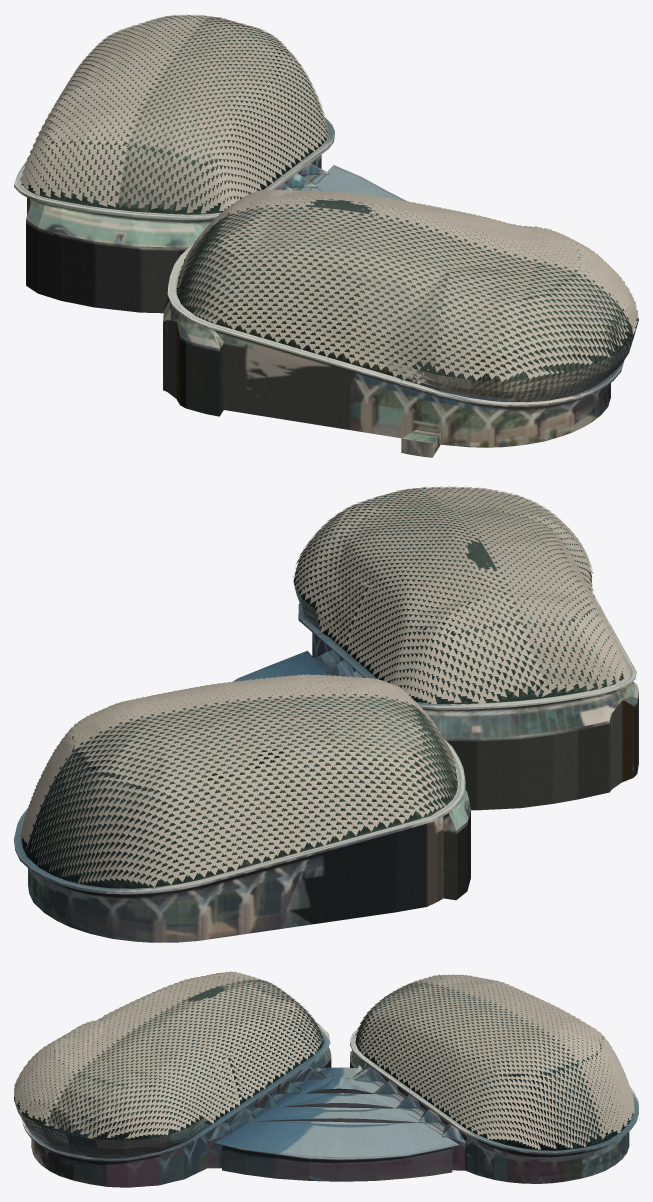
3 renders of one model, top to bottom at view 1: azimuth 30°, elevation 25°; view 2: azimuth 150°, elevation 25°; view 3: azimuth 270°, elevation 25°, orthographic. The views are drawn at different scales.
Parts seen in each view (by area): view 1: 12_0.glb; view 2: 12_0.glb; view 3: 12_0.glb.
Part boxes in pixels (x1=…): 12_0.glb: x1=14, y1=14, x2=638, y2=457; 12_0.glb: x1=14, y1=486, x2=638, y2=942; 12_0.glb: x1=14, y1=971, x2=638, y2=1187.
Size of the model in its own units: 96.2 by 41.51 by 191.
Materials: 3 (2 with a texture image).
